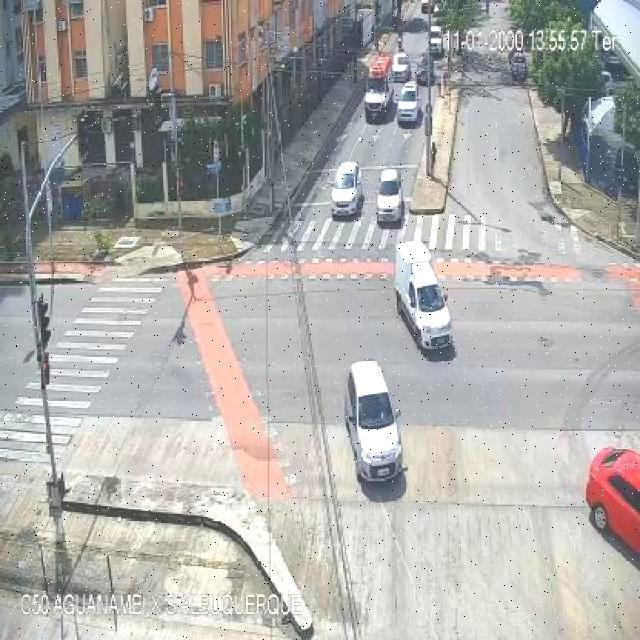Car: (345, 362, 403, 482), (331, 161, 363, 217), (376, 169, 403, 223), (396, 82, 421, 125), (391, 52, 410, 82), (510, 52, 528, 83), (415, 58, 435, 85), (428, 27, 444, 57)
Van: (393, 238, 452, 351), (363, 55, 392, 120)
